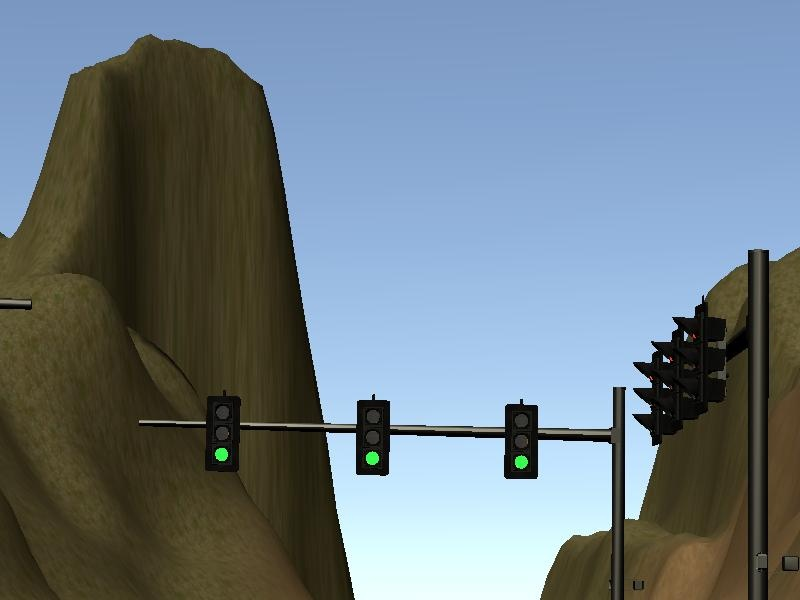green: (348, 399, 393, 478), (200, 396, 242, 475), (503, 402, 542, 482)
